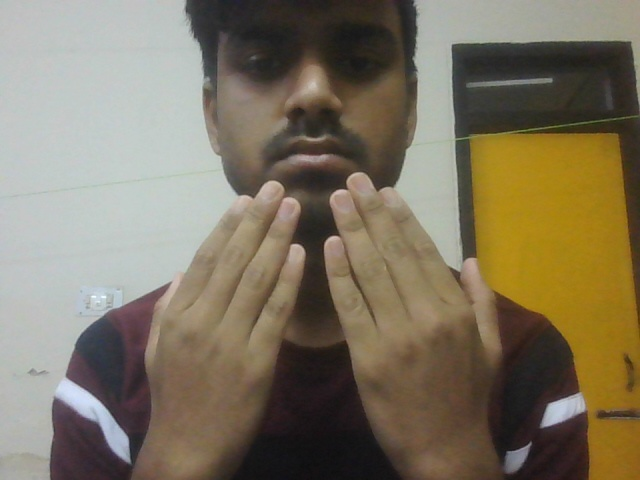thanks: (128, 169, 540, 480)
